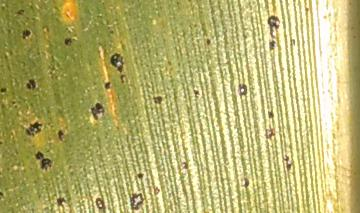tarspot: (266, 13, 282, 38), (23, 121, 43, 136), (110, 52, 124, 73), (129, 191, 144, 210), (90, 102, 105, 120), (263, 126, 276, 140), (40, 157, 52, 172), (281, 154, 291, 170), (25, 78, 37, 91), (239, 176, 250, 189), (237, 83, 247, 97), (56, 129, 66, 142), (55, 196, 68, 206), (63, 36, 74, 47), (22, 28, 32, 40), (94, 197, 104, 209), (152, 95, 163, 105), (267, 39, 276, 51), (14, 8, 26, 17), (103, 81, 113, 91), (34, 151, 44, 160), (266, 109, 274, 120), (152, 186, 161, 195), (192, 88, 200, 98), (181, 160, 189, 170), (119, 73, 126, 84), (135, 172, 144, 180), (107, 28, 116, 36), (1, 86, 8, 96), (114, 124, 122, 132), (291, 37, 297, 46), (304, 5, 310, 14), (205, 38, 211, 46), (1, 189, 5, 201), (10, 99, 17, 105), (13, 104, 19, 111), (1, 140, 4, 145)
